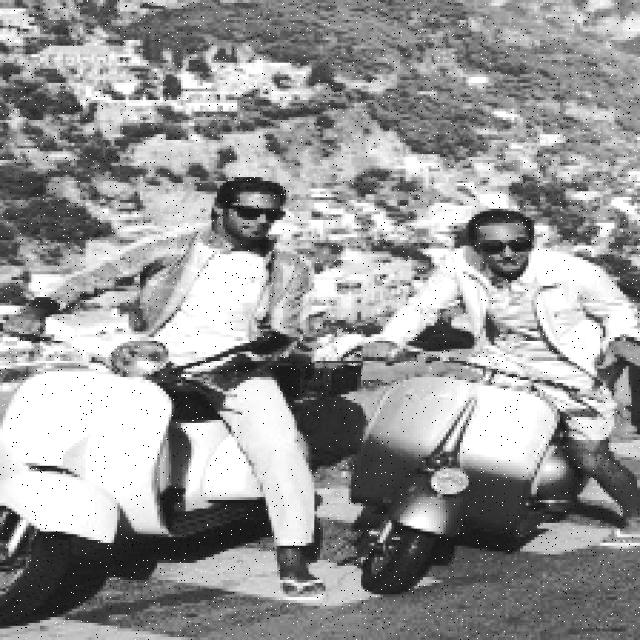Bike: (0, 323, 264, 619), (347, 324, 581, 586)
